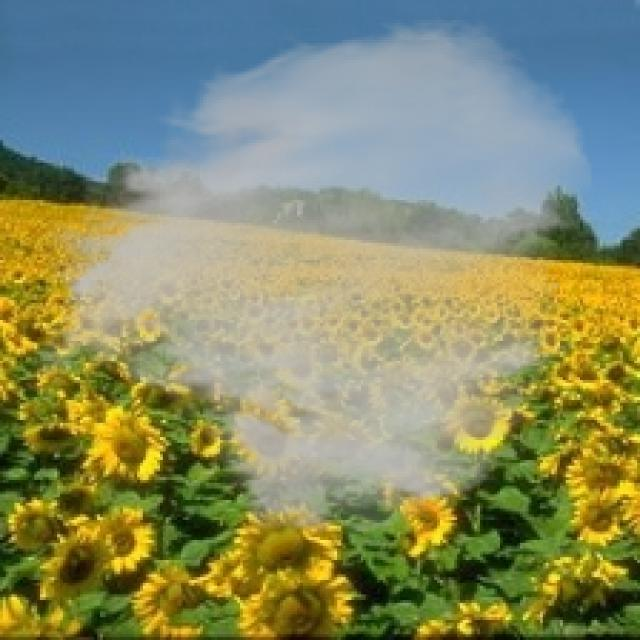smoke: (29, 14, 597, 540)
